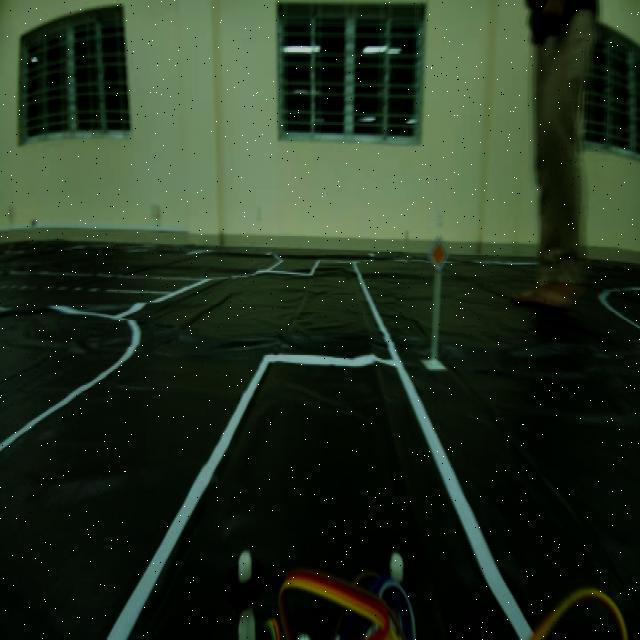priority: (427, 235, 450, 272)
